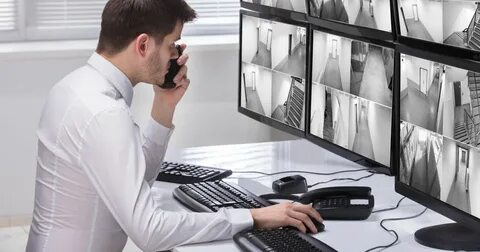awake: (25, 1, 201, 252)
